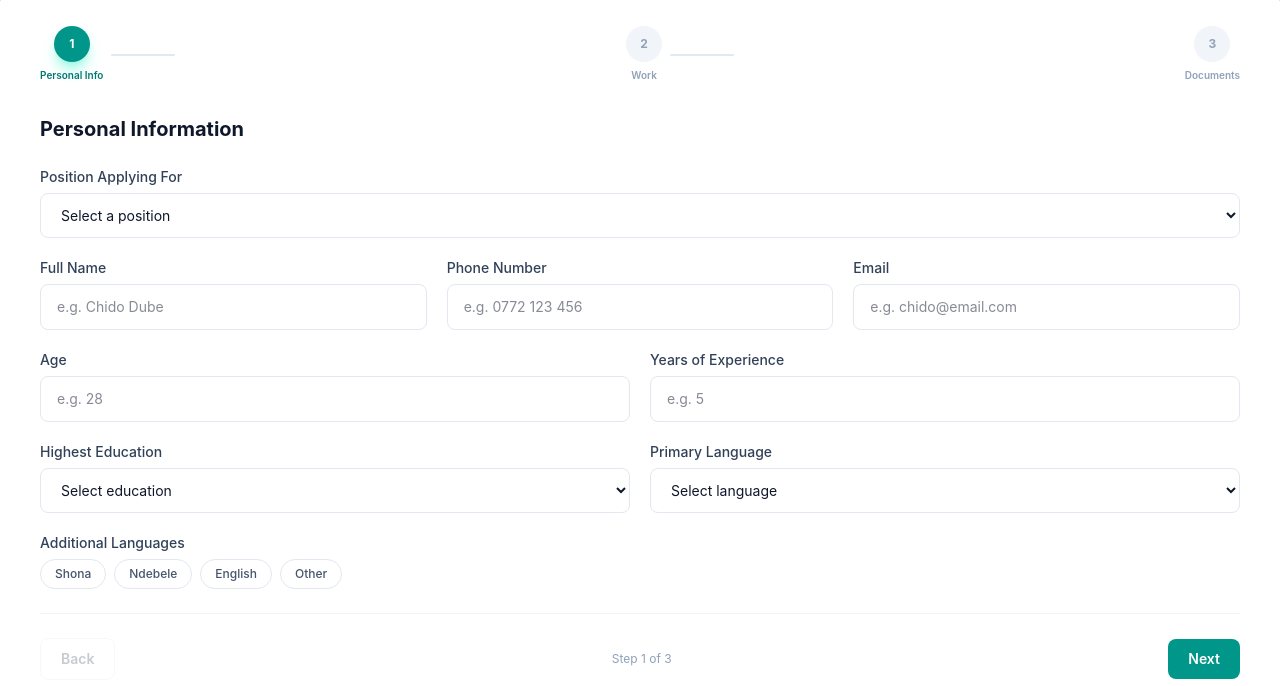
Scenario: JoinTeamForm › renders work preferences on step 2
(page scrolled)
Click the button "Next" at coordinates (1204, 659), box [1168, 639, 1240, 679]
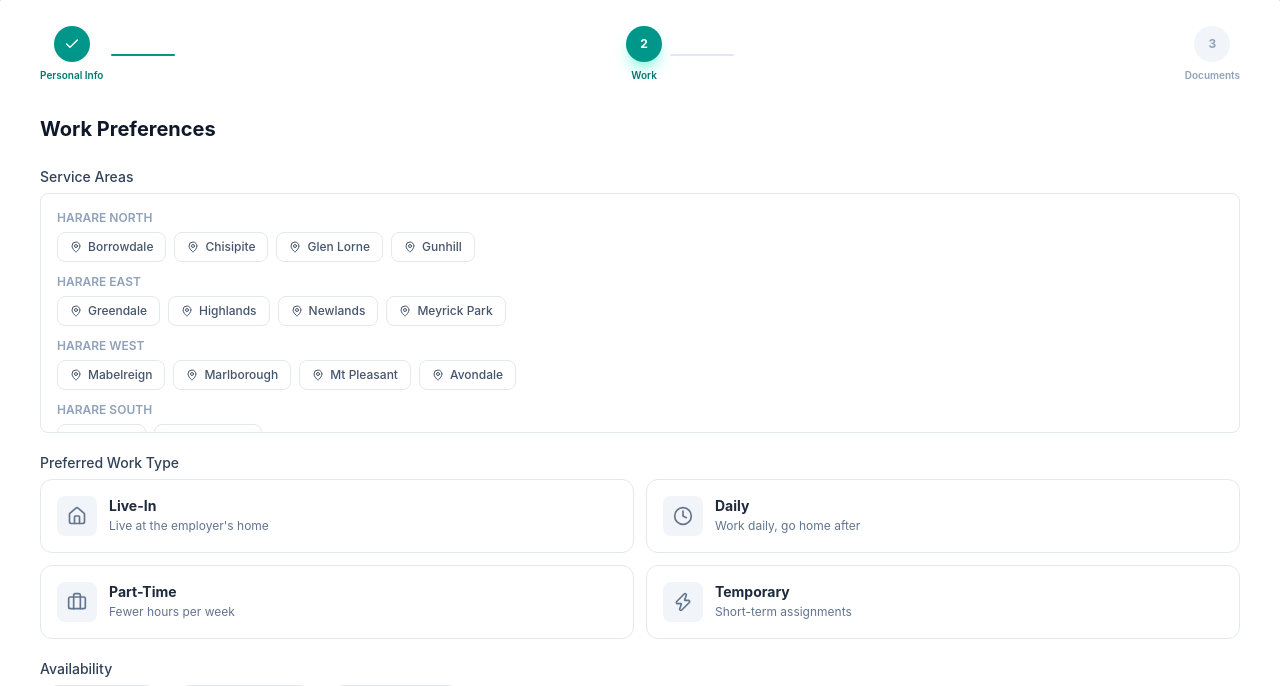
expect the heading "Work Preferences" is shown: met, box [40, 117, 216, 141]
expect the text "Service Areas" is shown: met, box [40, 168, 133, 185]
expect the text "Preferred Work Type" is shown: met, box [40, 454, 179, 471]
